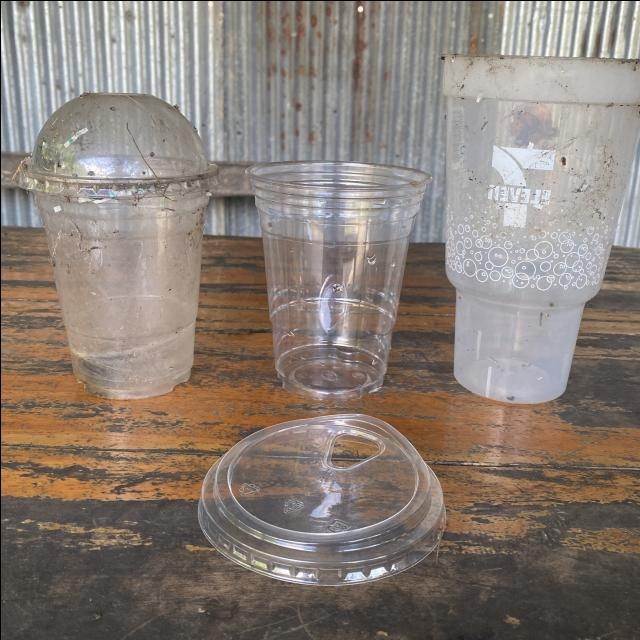plastik: (443, 54, 640, 403), (17, 93, 217, 398), (246, 160, 430, 399), (197, 413, 445, 584)
